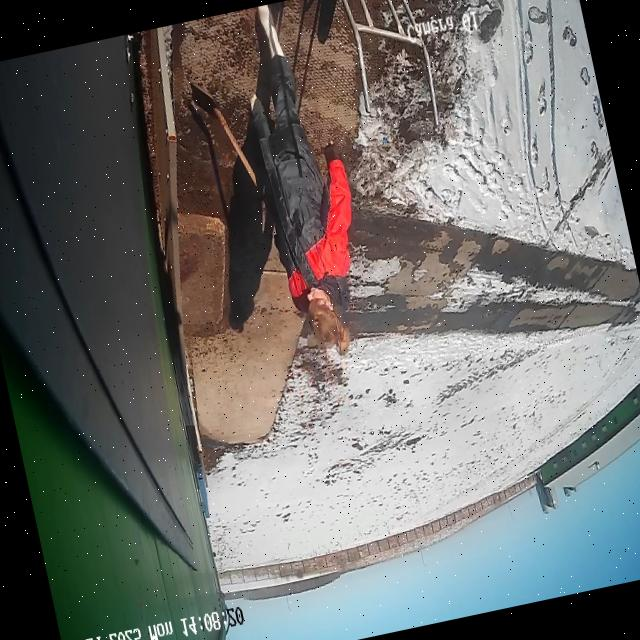Red uniform: (252, 55, 351, 313)
